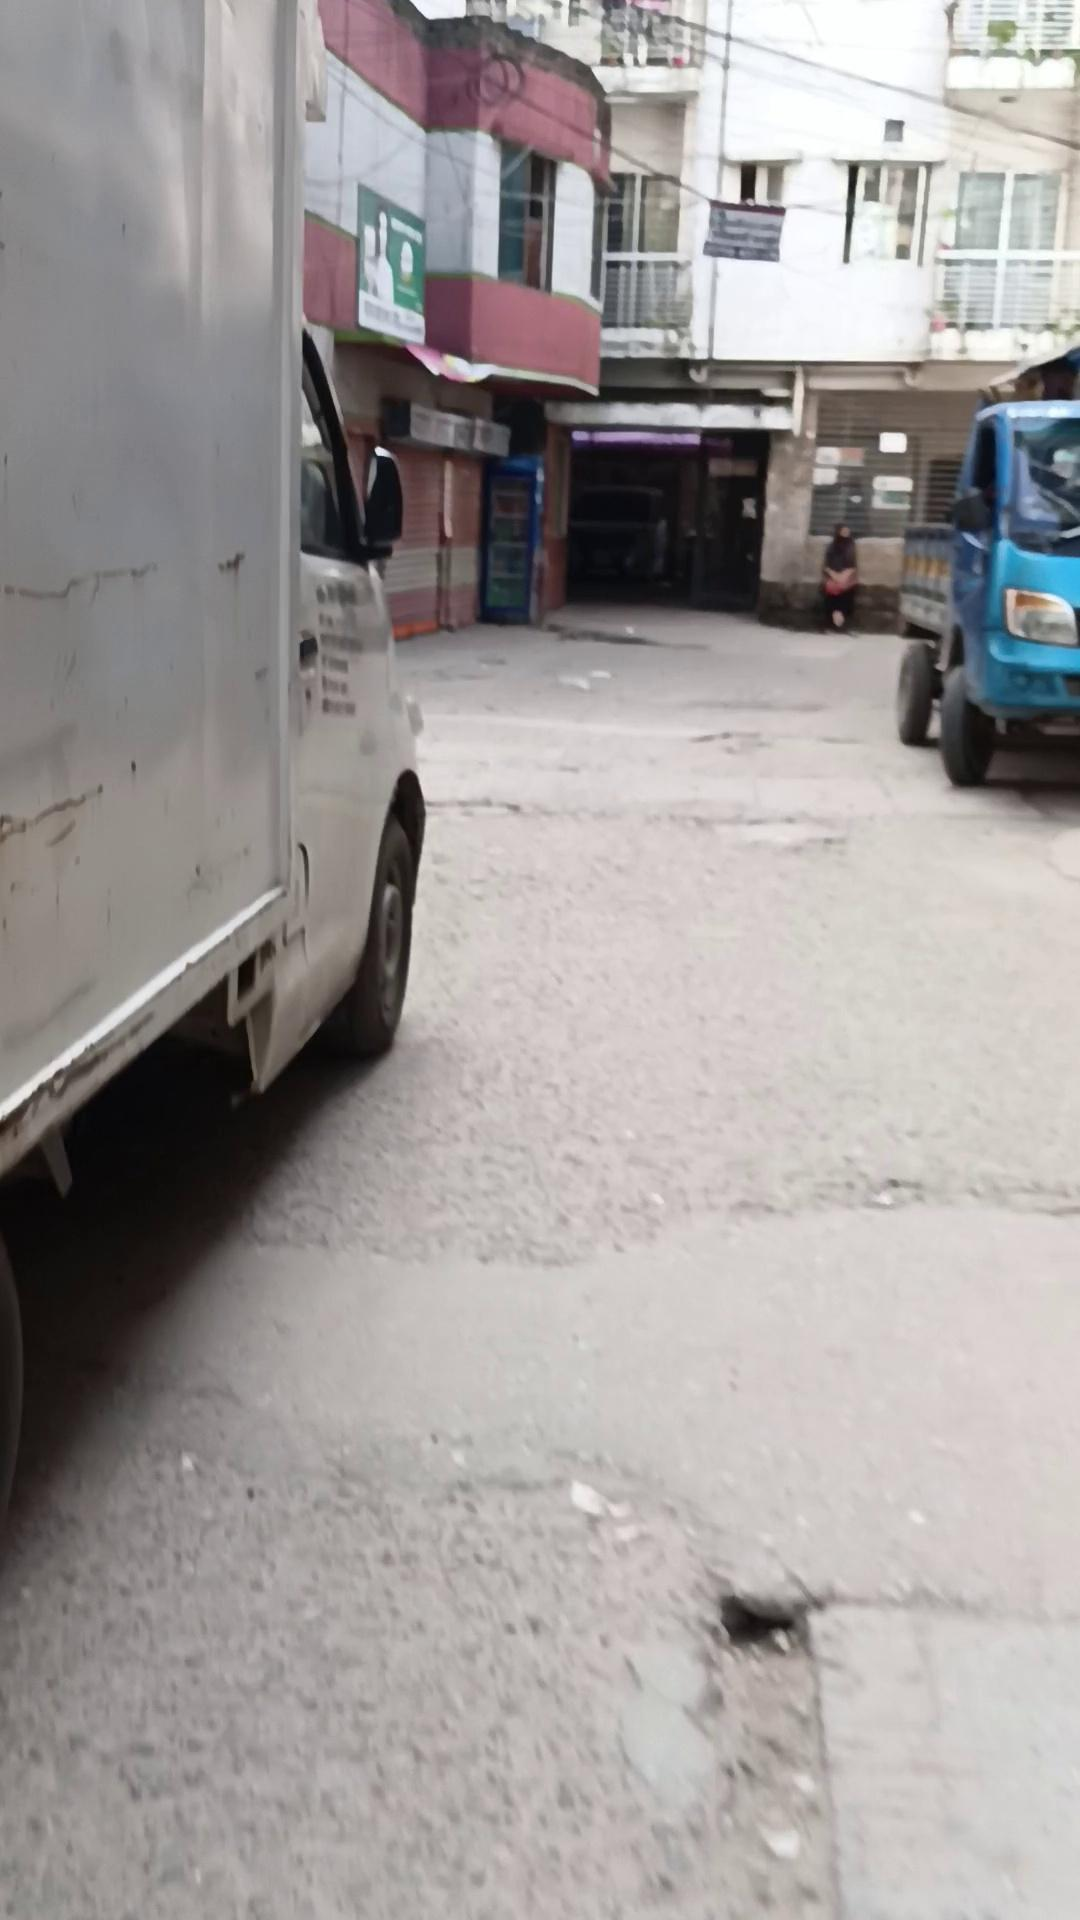Broken-road: (3, 595, 1076, 1913)
Muddy road: (819, 524, 858, 634)
Traffic-sign: (1, 1, 429, 1518), (893, 396, 1079, 787)
